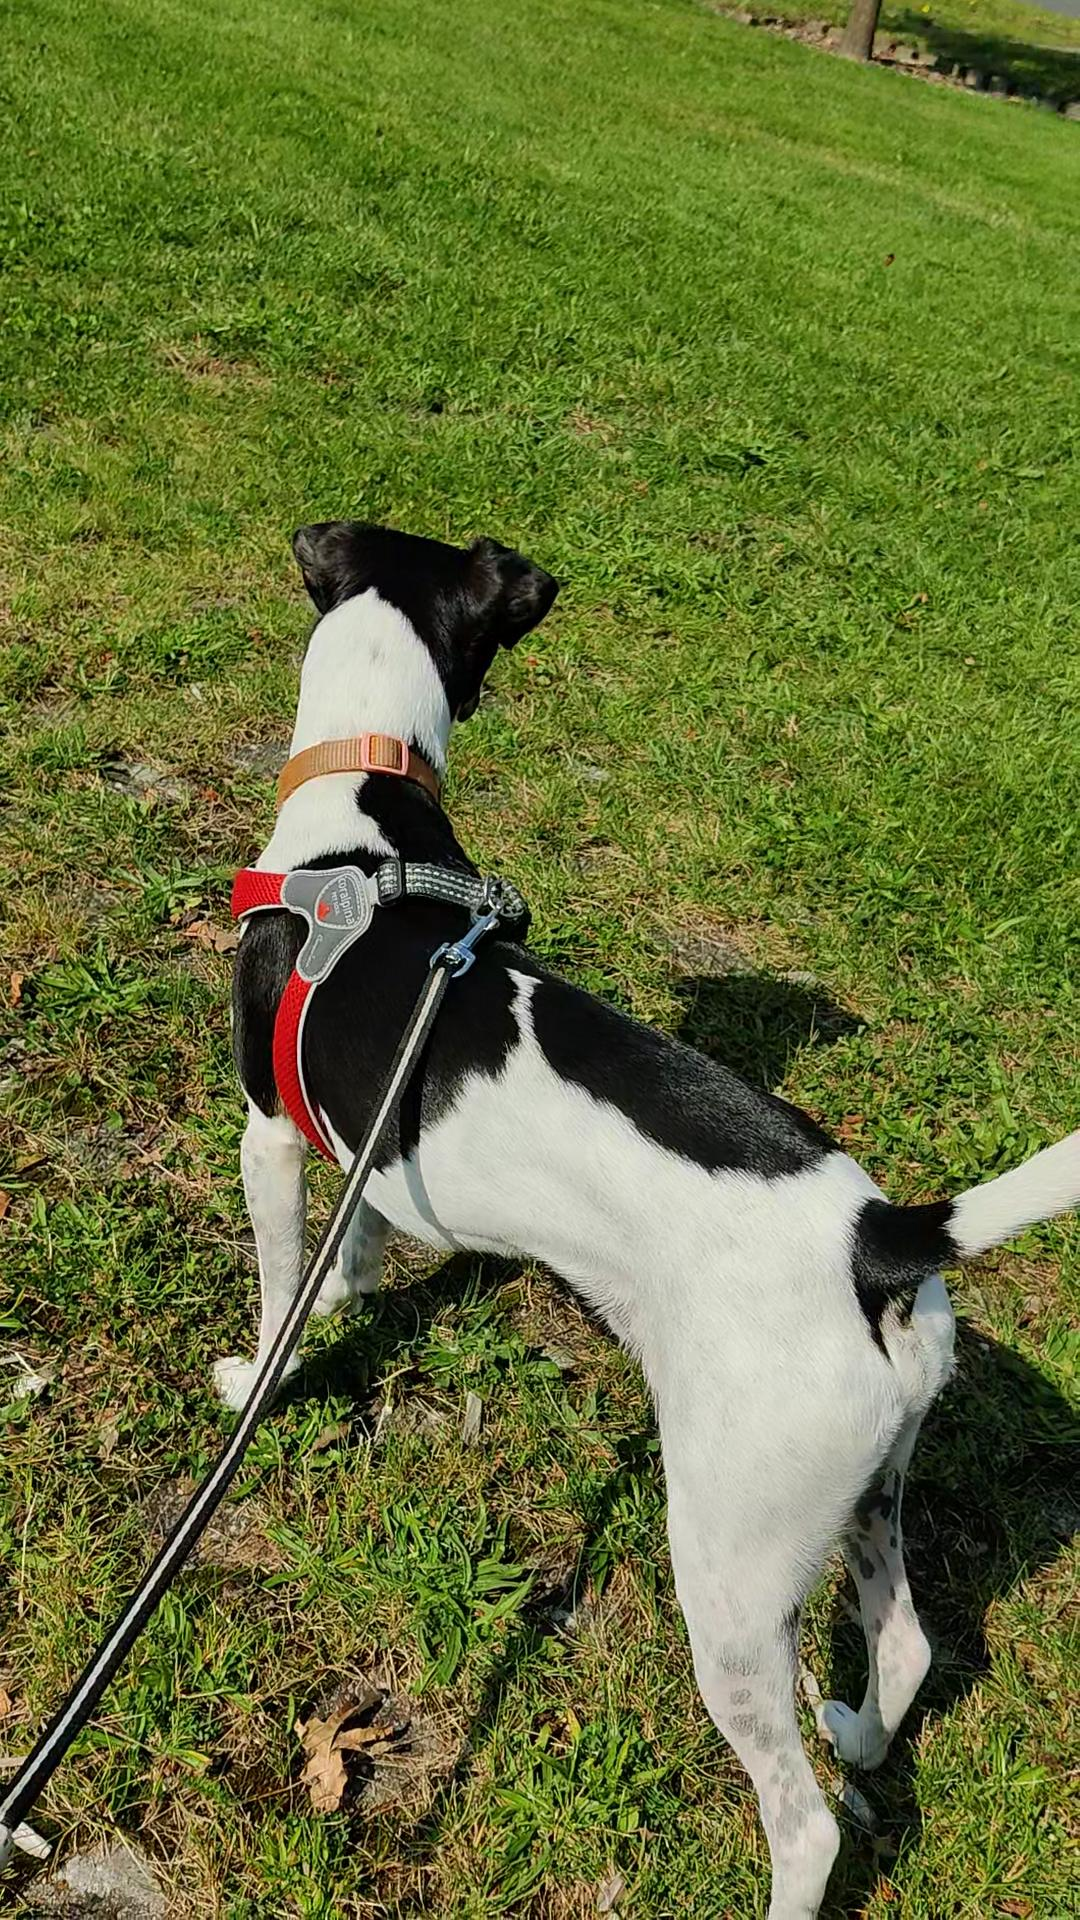Dog: (194, 504, 1079, 1919)
